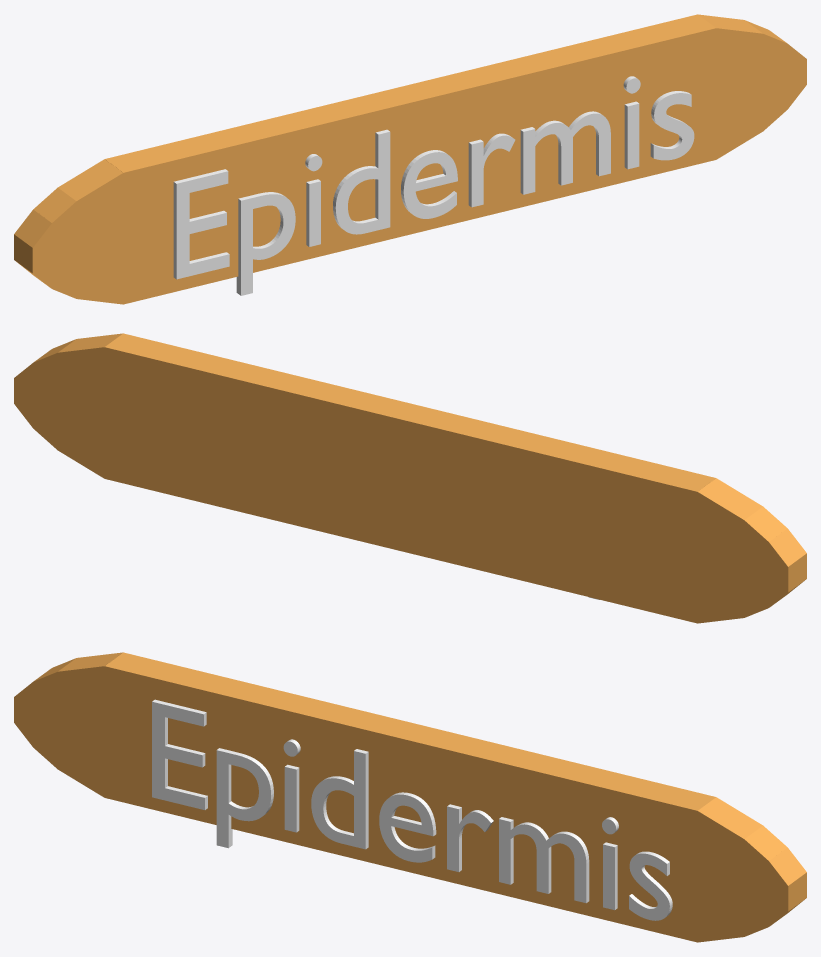
The model's file is txtEpidermis.fbx.
3 renders of one model, top to bottom at view 1: azimuth 30°, elevation 25°; view 2: azimuth 150°, elevation 25°; view 3: azimuth 330°, elevation 25°, orthographic.
Visible parts, largest first — view 1: TagContainer.024, Text.024; view 2: TagContainer.024; view 3: TagContainer.024, Text.024.
Boxes of the visible parts, x1,y1,x2,y2 form: TagContainer.024: [14, 14, 806, 304]; Text.024: [173, 76, 694, 295]; TagContainer.024: [14, 333, 806, 623]; TagContainer.024: [14, 652, 806, 942]; Text.024: [152, 699, 672, 920].
Size of the model in its own units: 178 by 32.69 by 8.61.
